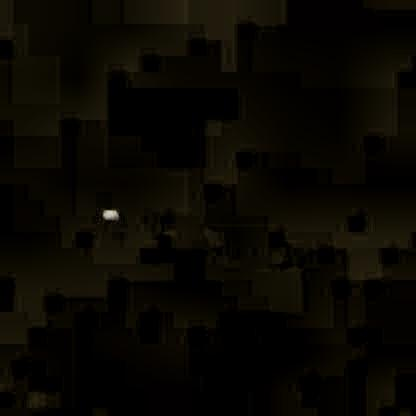golfball: (99, 206, 116, 220)
